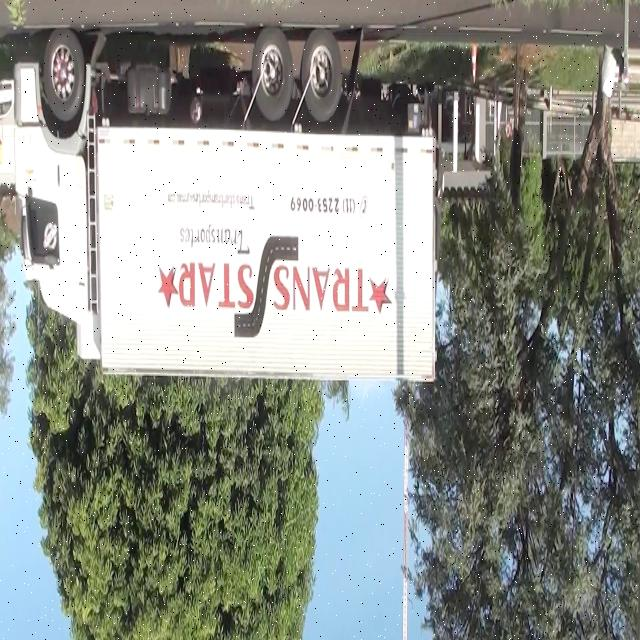-axle: (251, 21, 294, 120), (301, 29, 342, 121), (45, 32, 85, 122)
